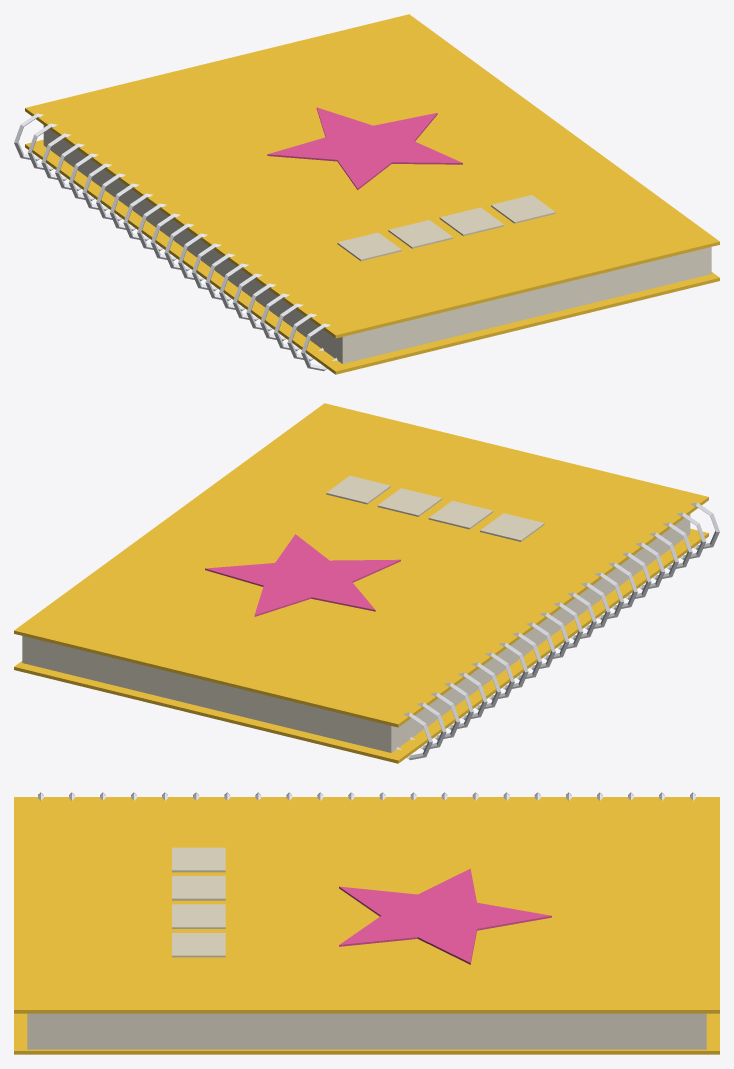
3 views of the same model, one above another, from view 1: azimuth 30°, elevation 25°; view 2: azimuth 150°, elevation 25°; view 3: azimuth 270°, elevation 25° (orthographic). The views are drawn at different scales.
Visible parts, largest first — view 1: front_cover_card, pages, back_cover, cover_star, cover_key_1, cover_key_0, cover_key_2, cover_key_3; view 2: front_cover_card, pages, back_cover, cover_star, cover_key_2, cover_key_1, cover_key_3, cover_key_0; view 3: front_cover_card, pages, cover_star, back_cover, cover_key_0, cover_key_1, cover_key_2, cover_key_3.
Part boxes in pixels (x1=…): front_cover_card: x1=25, y1=14, x2=719, y2=338; pages: x1=43, y1=125, x2=711, y2=363; back_cover: x1=25, y1=139, x2=719, y2=374; cover_star: x1=267, y1=107, x2=462, y2=189; cover_key_1: x1=388, y1=220, x2=452, y2=248; cover_key_0: x1=337, y1=232, x2=401, y2=261; cover_key_2: x1=439, y1=207, x2=504, y2=236; cover_key_3: x1=491, y1=195, x2=555, y2=223; front_cover_card: x1=14, y1=403, x2=708, y2=727; pages: x1=22, y1=514, x2=690, y2=752; back_cover: x1=14, y1=528, x2=708, y2=763; cover_star: x1=205, y1=534, x2=400, y2=616; cover_key_2: x1=377, y1=488, x2=442, y2=516; cover_key_1: x1=428, y1=500, x2=493, y2=529; cover_key_3: x1=326, y1=475, x2=390, y2=504; cover_key_0: x1=480, y1=513, x2=544, y2=541; front_cover_card: x1=14, y1=797, x2=719, y2=1013; pages: x1=27, y1=1013, x2=706, y2=1049; cover_star: x1=339, y1=868, x2=551, y2=964; back_cover: x1=14, y1=1013, x2=719, y2=1054; cover_key_0: x1=172, y1=847, x2=225, y2=872; cover_key_1: x1=172, y1=876, x2=225, y2=900; cover_key_2: x1=172, y1=904, x2=225, y2=928; cover_key_3: x1=172, y1=933, x2=225, y2=957.
Bounding box in the file's own units: 0.1589 × 0.0178 × 0.21.
